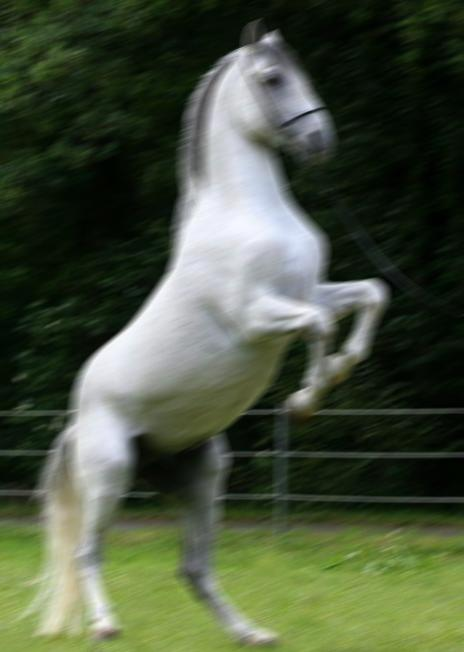horse: (7, 12, 398, 652)
